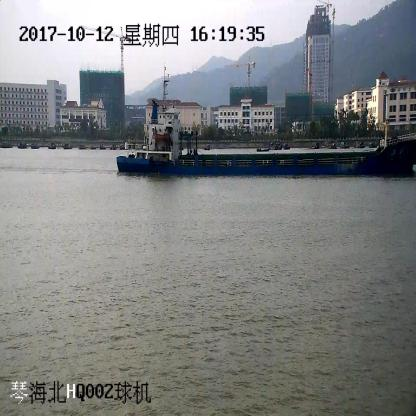Bulk Carrier: (116, 72, 416, 176)
